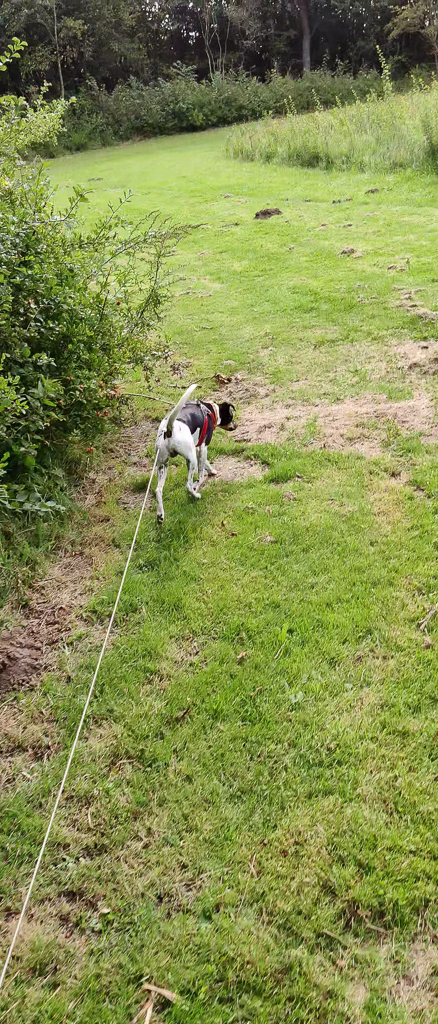Dog: (136, 376, 249, 534)
